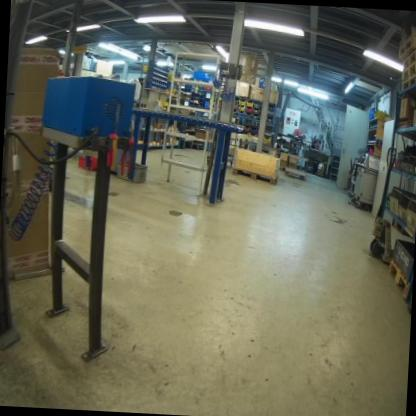pallet: (385, 258, 410, 300), (230, 165, 278, 186), (400, 36, 414, 54), (403, 49, 416, 67), (402, 73, 416, 86), (402, 63, 416, 75)
pallet_truck: (365, 142, 408, 270)
